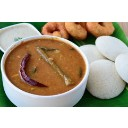idly: (87, 60, 125, 97), (97, 36, 128, 58), (80, 42, 106, 62), (117, 54, 128, 80)
